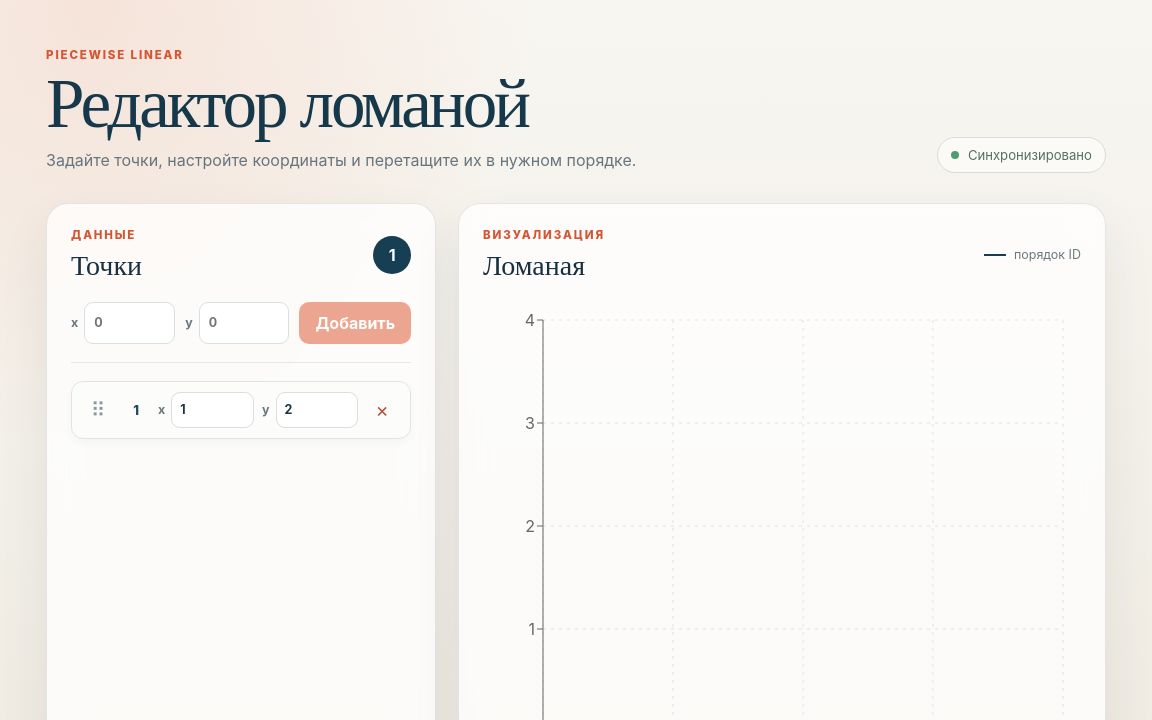
it: App › deletes a point only after confirmation
Step 1. Click the button named "Удалить точку 1" → (382, 410), box [366,394,398,426]
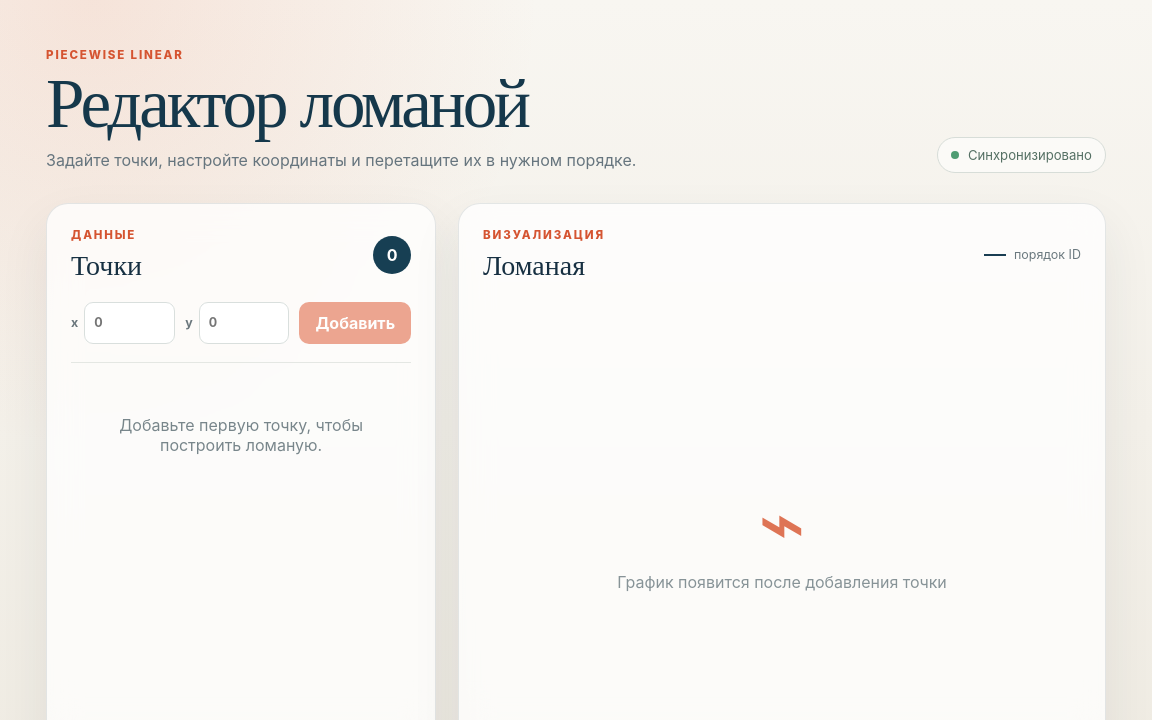
Expected: the text "Добавьте первую точку, чтобы построить ломаную." is shown, [119,414,363,454]
